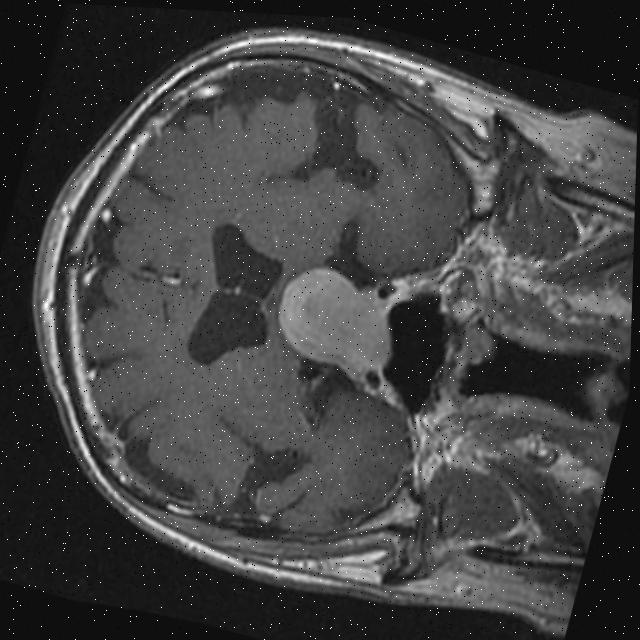Pituitary: (262, 254, 409, 392)
